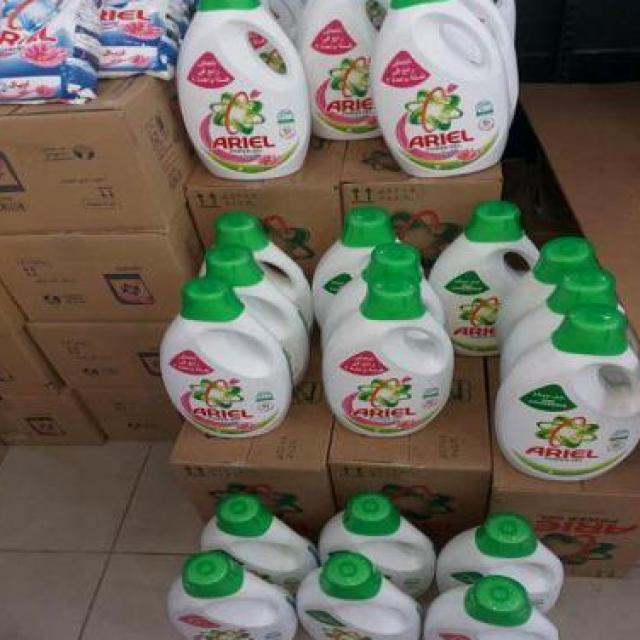Detergent: (502, 288, 640, 480), (374, 0, 521, 179), (174, 0, 306, 189), (316, 285, 458, 432), (165, 286, 293, 444), (156, 529, 302, 640), (438, 184, 528, 361), (289, 0, 392, 140), (289, 555, 424, 640), (0, 0, 105, 95), (422, 577, 560, 640), (88, 0, 184, 80)
